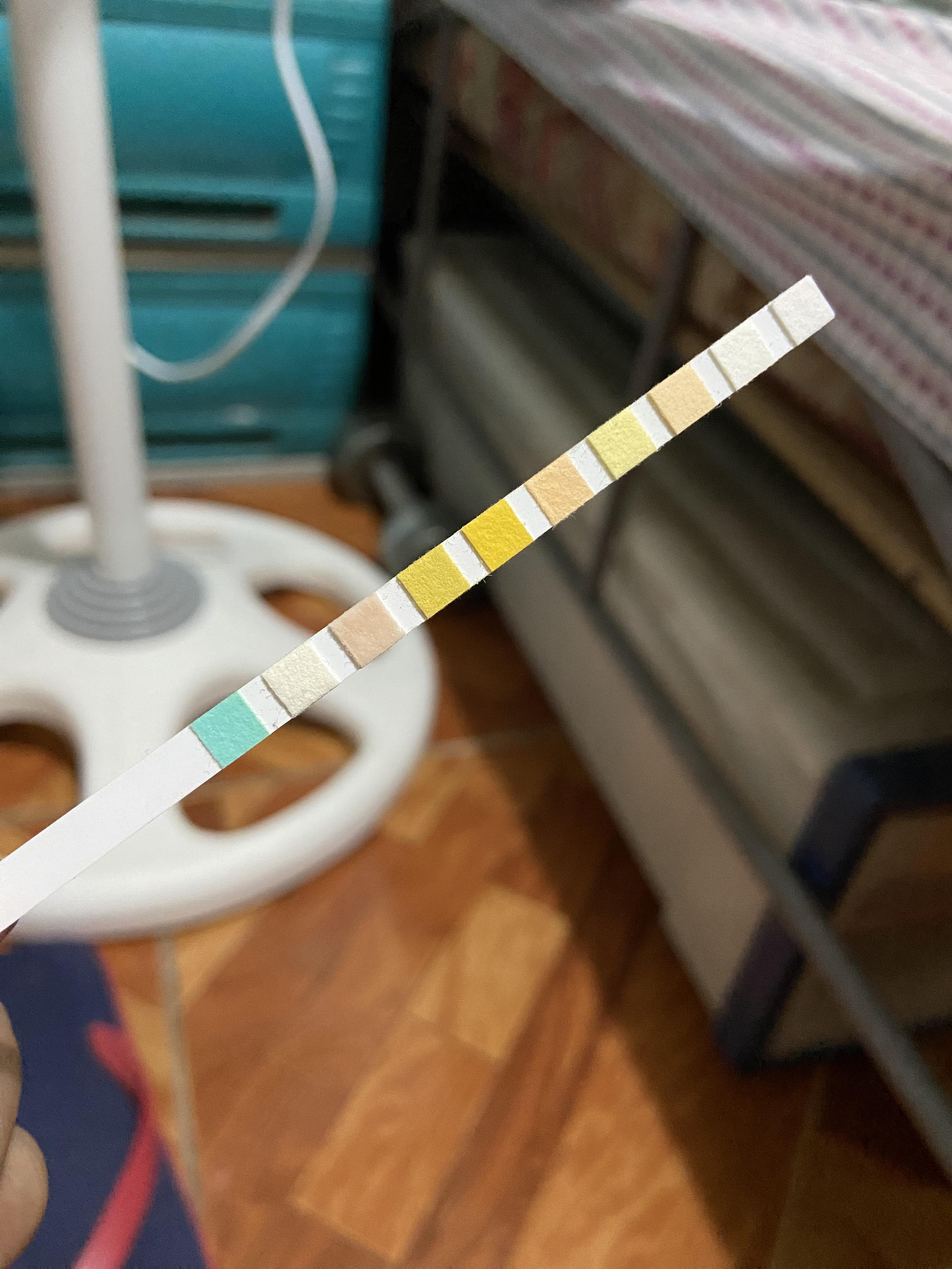Bilirubin: (279, 663, 321, 698)
Blood: (479, 518, 518, 553)
Glucose: (211, 711, 251, 748)
Ketone: (346, 611, 387, 648)
Leukocytes: (780, 293, 823, 325)
Nitrite: (722, 339, 763, 372)
Protein: (600, 427, 643, 461)
SpGravity: (413, 565, 454, 599)
Urobilinogen: (660, 384, 704, 416)
pH: (539, 472, 578, 509)
strip: (0, 276, 838, 936)
